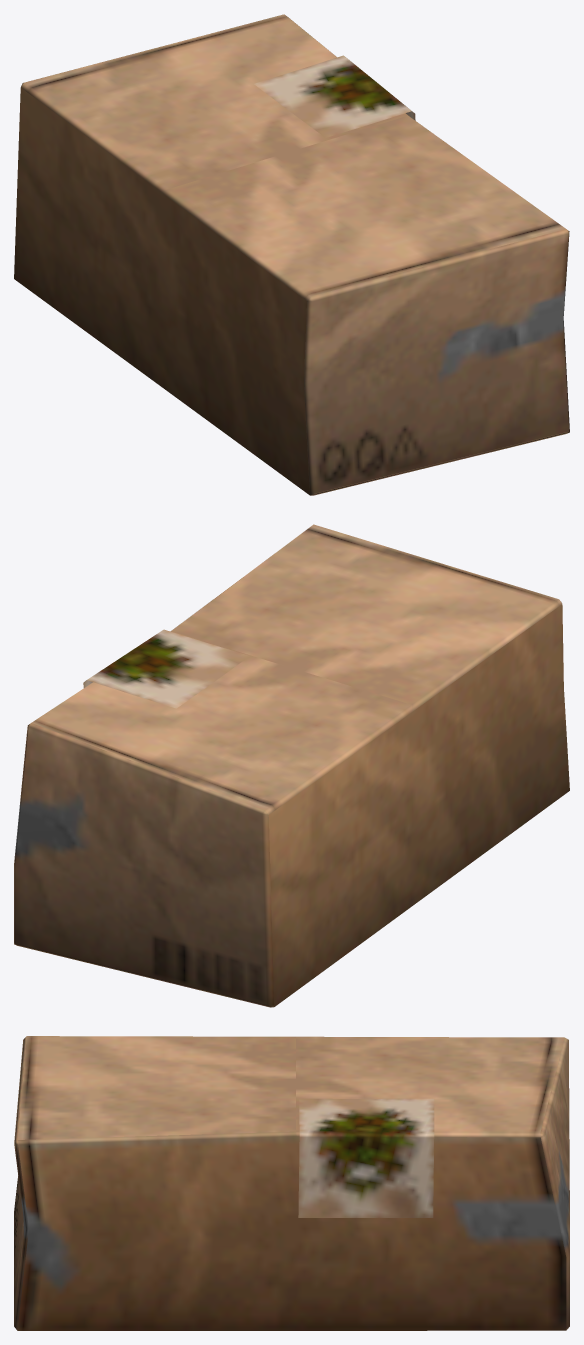
Rendered from SM_PRP_Package_A_02.fbx.
The picture shows the model from 3 angles, top to bottom: view 1: azimuth 30°, elevation 25°; view 2: azimuth 150°, elevation 25°; view 3: azimuth 270°, elevation 25°; orthographic projection. The views are drawn at different scales.
Visible parts, largest first — view 1: SM_PRP_Package_A_02; view 2: SM_PRP_Package_A_02; view 3: SM_PRP_Package_A_02.
Boxes of the visible parts, x1,y1,x2,y2 form: SM_PRP_Package_A_02: [14, 14, 569, 495]; SM_PRP_Package_A_02: [14, 524, 569, 1007]; SM_PRP_Package_A_02: [14, 1036, 569, 1330].
Size of the model in its own units: 7.49 by 14.87 by 5.83.
1 material, 1 textured.
